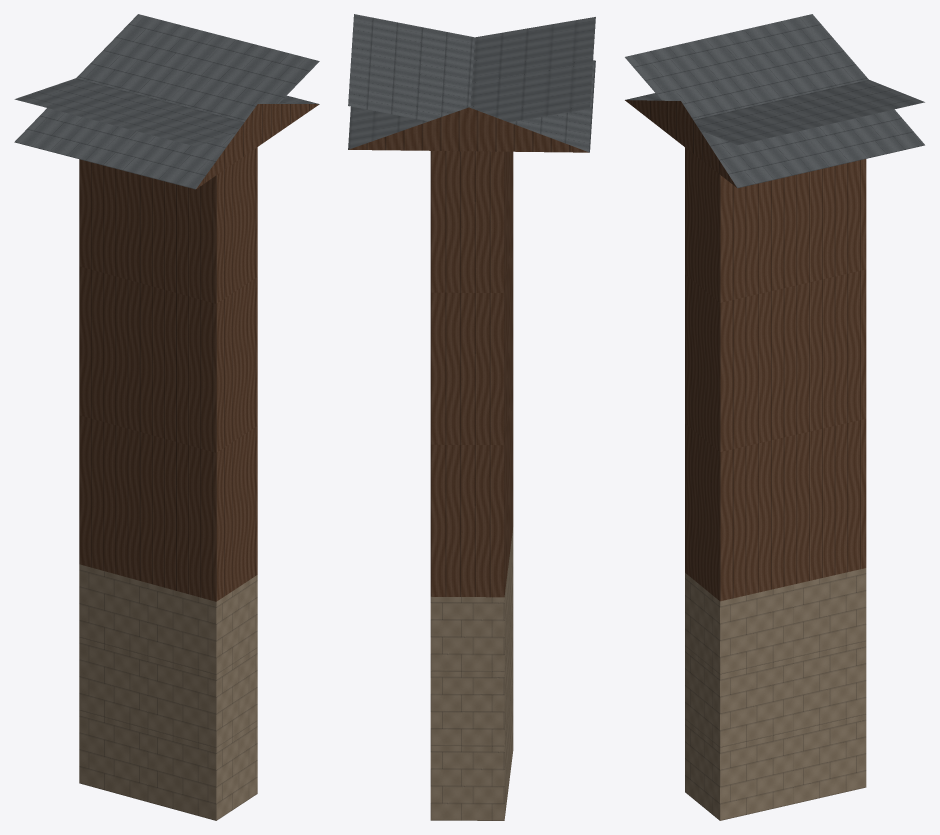
File: bld_c-3_0_547.gltf
3 renders of one model, left to right at view 1: azimuth 30°, elevation 25°; view 2: azimuth 150°, elevation 25°; view 3: azimuth 270°, elevation 25°, orthographic. The views are drawn at different scales.
Visible parts, largest first — view 1: bld_c-3_0_547; view 2: bld_c-3_0_547; view 3: bld_c-3_0_547.
Part boxes in pixels (x1,y1,x2,y2): bld_c-3_0_547: (14, 14, 319, 820); bld_c-3_0_547: (348, 14, 595, 820); bld_c-3_0_547: (625, 14, 924, 820).
Size of the model in its own units: 6.54 by 16.5 by 6.34.
Materials: 4 (4 with a texture image).
